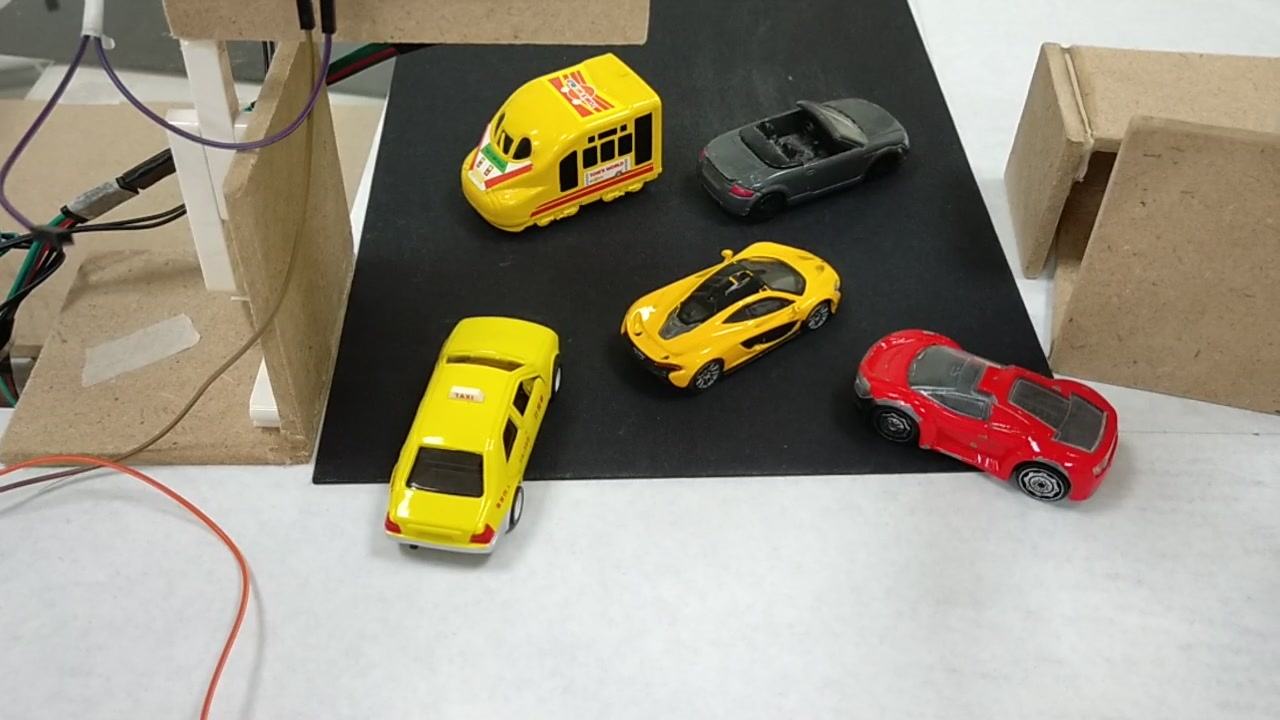car: (856, 326, 1122, 506), (380, 316, 564, 541), (615, 259, 831, 388), (699, 95, 901, 210)
